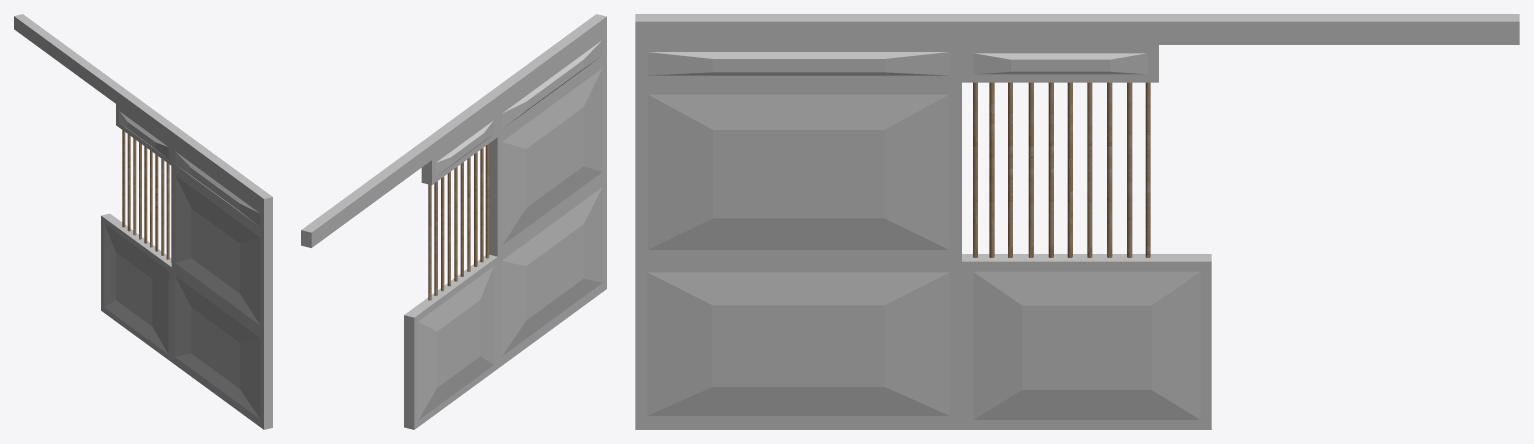
Rendered from PorchWall_12240312.fbx.
3 views of the same model, side by side, from view 1: azimuth 30°, elevation 25°; view 2: azimuth 150°, elevation 25°; view 3: azimuth 270°, elevation 25° (orthographic). The views are drawn at different scales.
Parts seen in each view (by area): view 1: 平面.020, 圓柱體.003; view 2: 平面.020, 圓柱體.003; view 3: 平面.020, 圓柱體.003.
Boxes of the visible parts, box(x1,y1,x2,y2) form: 平面.020: box(14, 14, 272, 429); 圓柱體.003: box(122, 130, 171, 262); 平面.020: box(301, 14, 606, 429); 圓柱體.003: box(428, 143, 489, 300); 平面.020: box(635, 14, 1519, 429); 圓柱體.003: box(973, 82, 1150, 257).
Size of the model in its own units: 51.01 by 849 by 1667.
